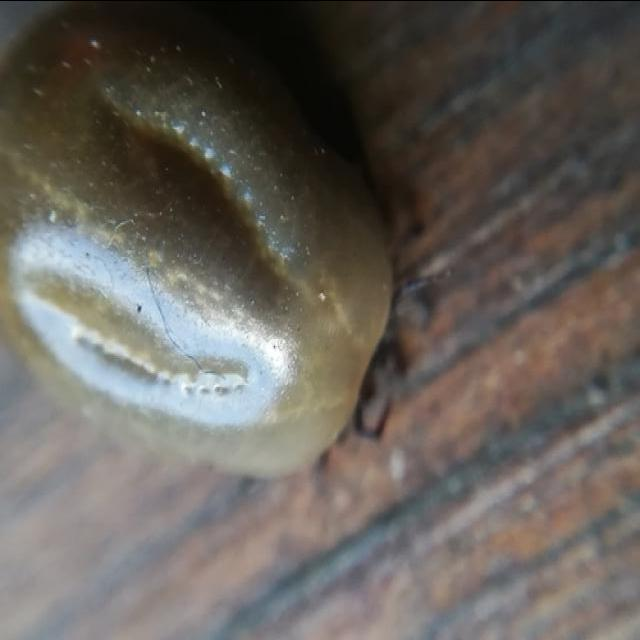Ixodes Ricinus-F: (0, 0, 429, 480)
